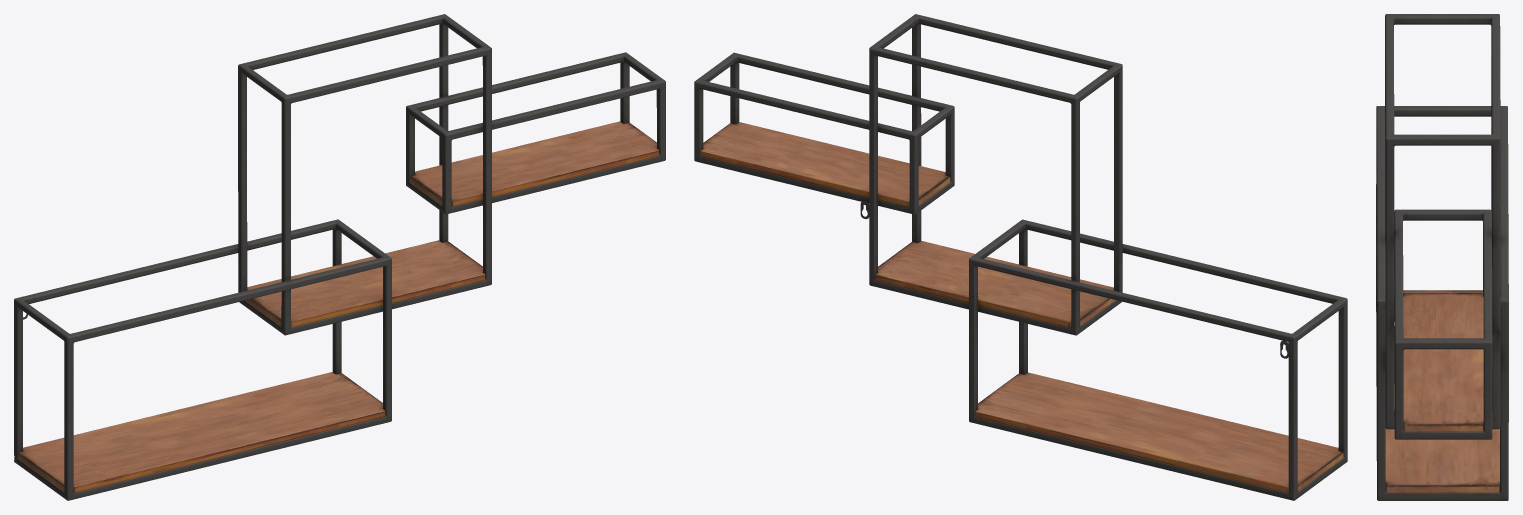
File: abo-B07HSJN2FX.glb
The picture shows the model from 3 angles, left to right: view 1: azimuth 30°, elevation 25°; view 2: azimuth 150°, elevation 25°; view 3: azimuth 270°, elevation 25°; orthographic projection. The views are drawn at different scales.
Bounding box in the file's own units: 1.78 × 0.972 × 0.275.
Materials: 1 (1 with a texture image).
